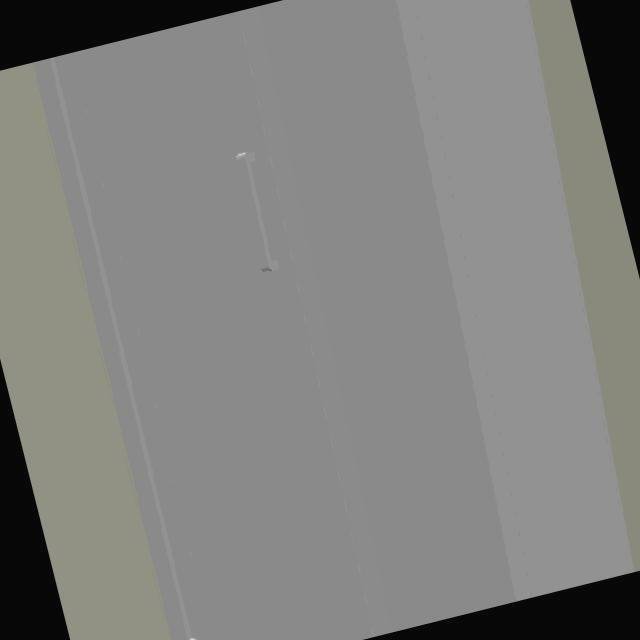shower: (34, 0, 639, 640)
